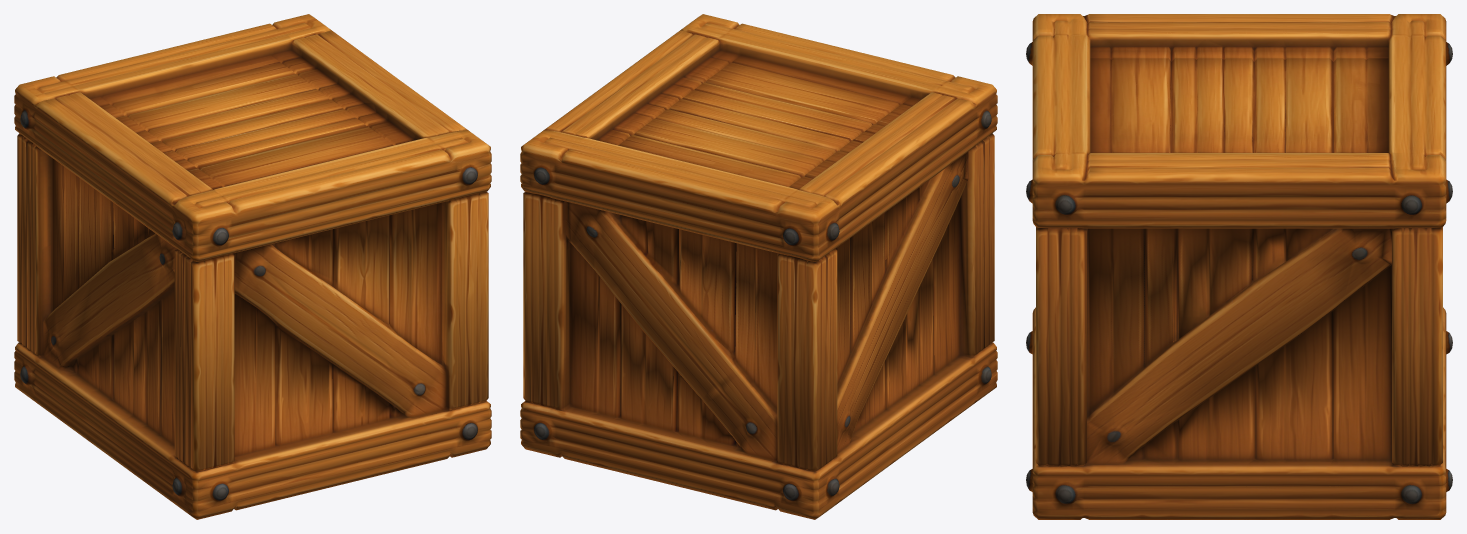
File: wooden_crate.glb
3 views of the same model, side by side, from view 1: azimuth 30°, elevation 25°; view 2: azimuth 150°, elevation 25°; view 3: azimuth 270°, elevation 25° (orthographic). The views are drawn at different scales.
Visible parts, largest first — view 1: tripo_node_f9891beb-6e8e-4e78-bd18-130140d15b28; view 2: tripo_node_f9891beb-6e8e-4e78-bd18-130140d15b28; view 3: tripo_node_f9891beb-6e8e-4e78-bd18-130140d15b28.
Part boxes in pixels (x1=…): tripo_node_f9891beb-6e8e-4e78-bd18-130140d15b28: x1=14, y1=14, x2=491, y2=519; tripo_node_f9891beb-6e8e-4e78-bd18-130140d15b28: x1=520, y1=14, x2=997, y2=519; tripo_node_f9891beb-6e8e-4e78-bd18-130140d15b28: x1=1026, y1=14, x2=1452, y2=519.
Bounding box in the file's own units: 0.9178 × 0.8648 × 0.967.
1 material, 1 textured.
